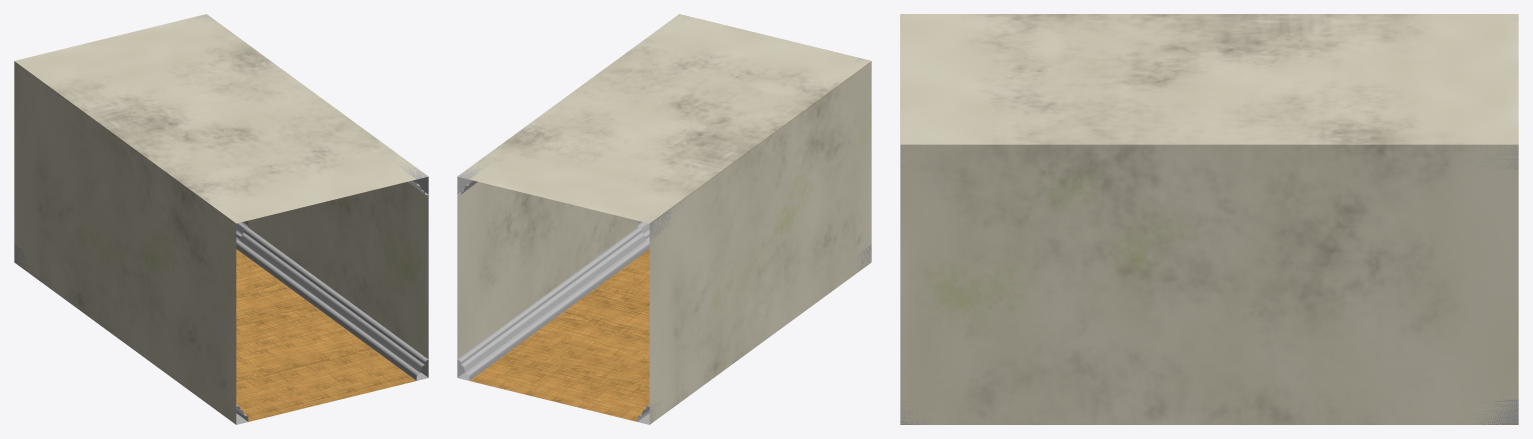
File: Hallway_HallBasic.fbx
3 views of the same model, side by side, from view 1: azimuth 30°, elevation 25°; view 2: azimuth 150°, elevation 25°; view 3: azimuth 270°, elevation 25° (orthographic). The views are drawn at different scales.
Parts seen in each view (by area): view 1: Hallway_HallBasic; view 2: Hallway_HallBasic; view 3: Hallway_HallBasic.
Part boxes in pixels (box(x1,y1,x2,y2)): Hallway_HallBasic: box(14, 14, 428, 424); Hallway_HallBasic: box(457, 14, 871, 424); Hallway_HallBasic: box(900, 14, 1518, 424).
Size of the model in its own units: 748 by 748 by 1496.
1 material, 1 textured.
